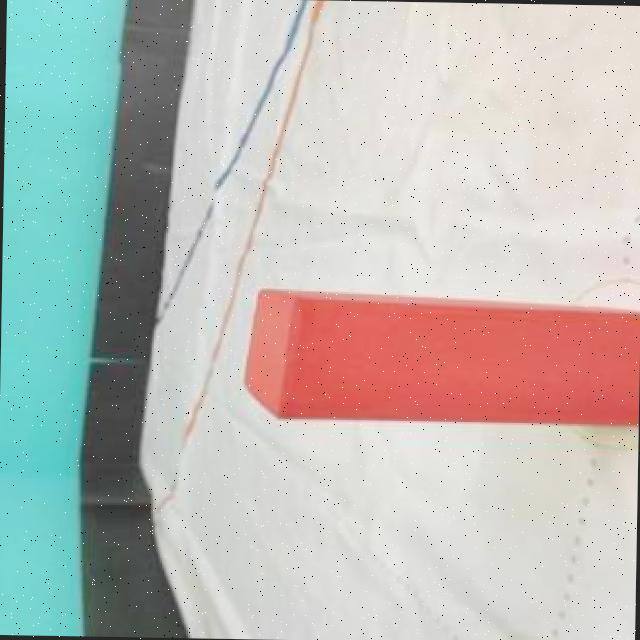redbox: (241, 289, 640, 428)
